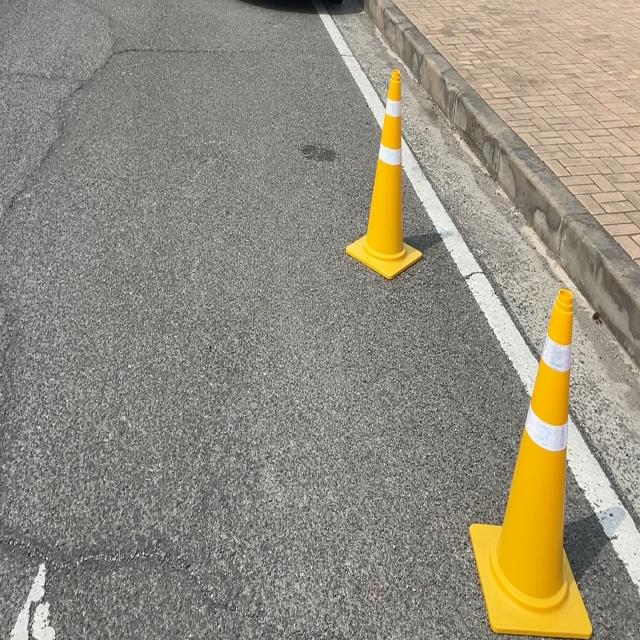y_rub: (471, 289, 593, 639), (346, 68, 422, 278)
